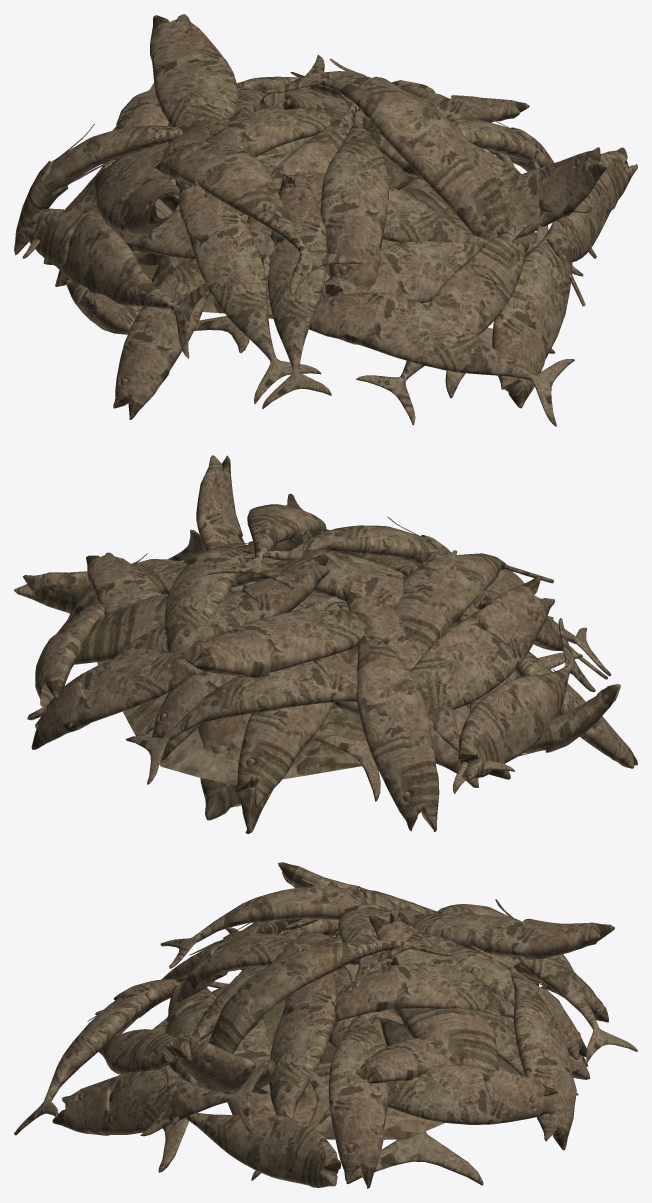
Rendered from Fish_Pile01.fbx.
3 renders of one model, top to bottom at view 1: azimuth 30°, elevation 25°; view 2: azimuth 150°, elevation 25°; view 3: azimuth 270°, elevation 25°, orthographic. The views are drawn at different scales.
Visible parts, largest first — view 1: Fish_Pile01; view 2: Fish_Pile01; view 3: Fish_Pile01.
Boxes of the visible parts, <box> form: Fish_Pile01: <box>14,14,637,426</box>; Fish_Pile01: <box>14,455,637,833</box>; Fish_Pile01: <box>14,862,637,1188</box>.
Bounding box in the file's own units: 206 × 72.1 × 208.
